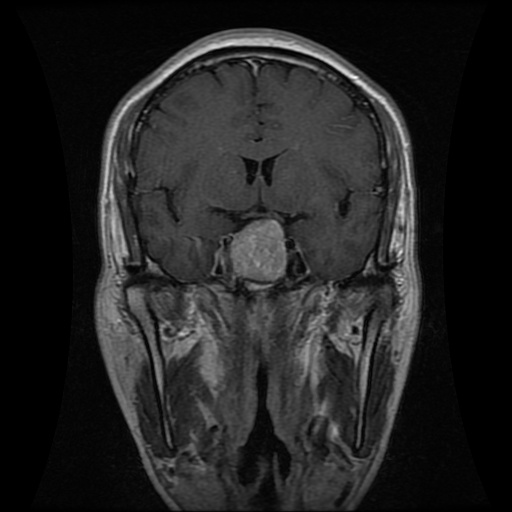pituitary: (230, 218, 285, 281)
